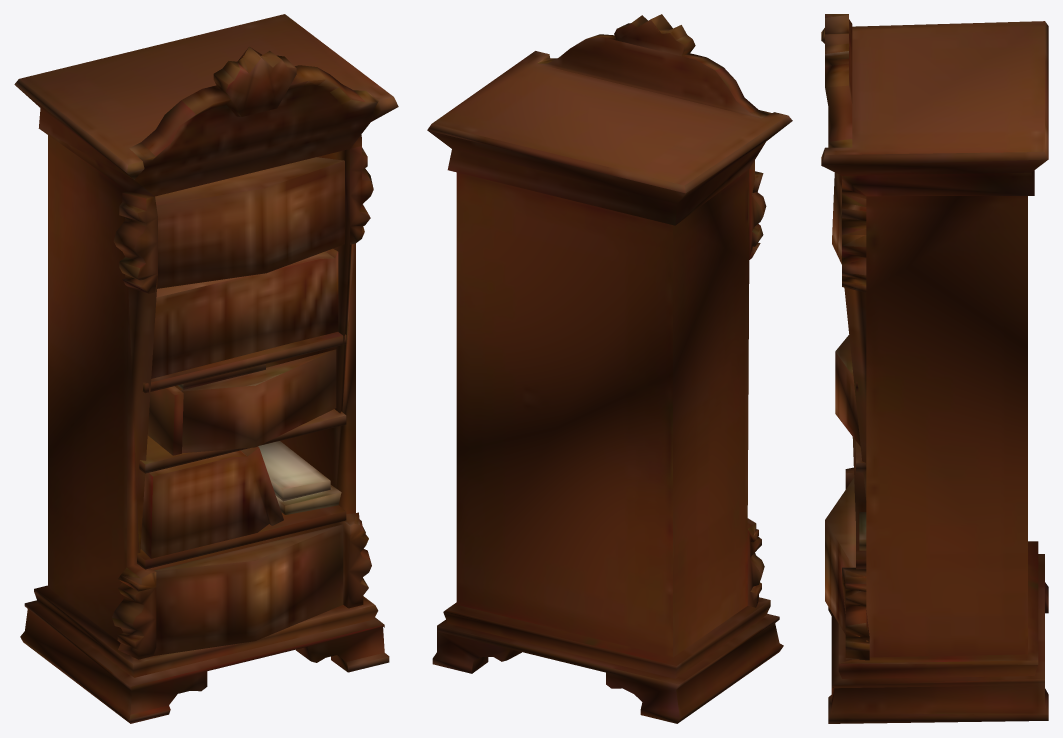
The model's file is wyn_furn_noble_bookcase.glb.
The picture shows the model from 3 angles, left to right: view 1: azimuth 30°, elevation 25°; view 2: azimuth 150°, elevation 25°; view 3: azimuth 270°, elevation 25°; orthographic projection. The views are drawn at different scales.
Visible parts, largest first — view 1: tripo_node_fc333d6c-31bf-4e8c-a0b8-9a70a515bad0; view 2: tripo_node_fc333d6c-31bf-4e8c-a0b8-9a70a515bad0; view 3: tripo_node_fc333d6c-31bf-4e8c-a0b8-9a70a515bad0.
Part boxes in pixels (bbox=[...]): tripo_node_fc333d6c-31bf-4e8c-a0b8-9a70a515bad0: bbox=[14, 14, 398, 723]; tripo_node_fc333d6c-31bf-4e8c-a0b8-9a70a515bad0: bbox=[427, 14, 792, 723]; tripo_node_fc333d6c-31bf-4e8c-a0b8-9a70a515bad0: bbox=[821, 14, 1048, 723].
Bounding box in the file's own units: 0.9776 × 2.2 × 0.7016.
1 material, 1 textured.
